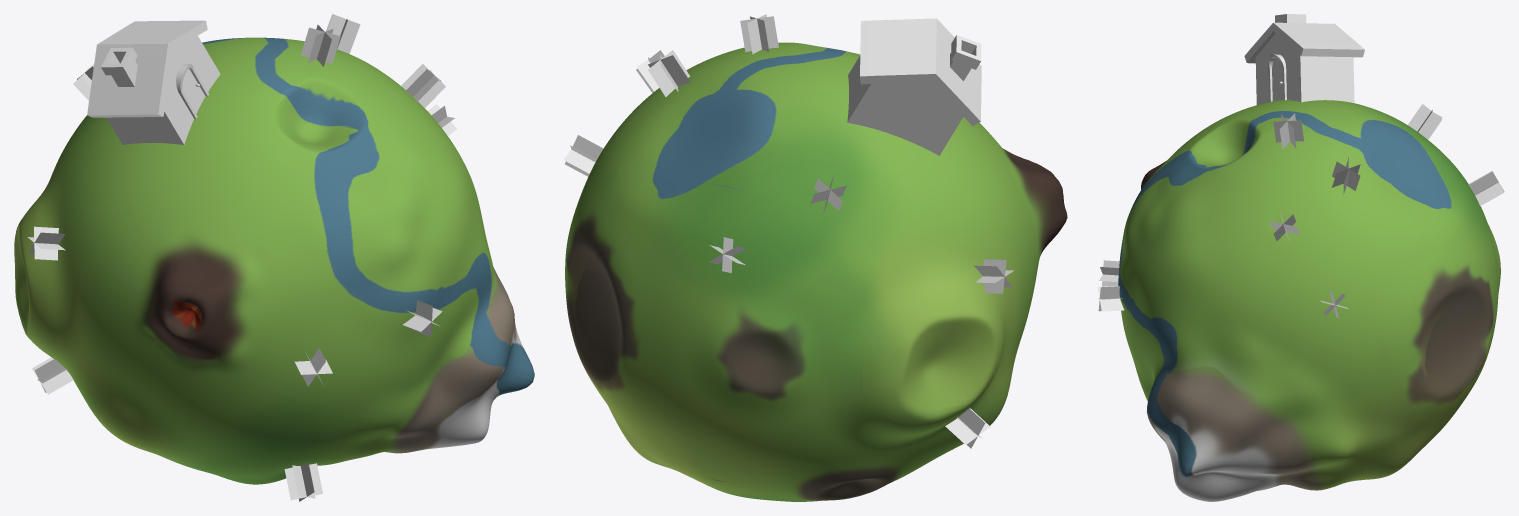
Rendered from planet.fbx.
3 renders of one model, left to right at view 1: azimuth 30°, elevation 25°; view 2: azimuth 150°, elevation 25°; view 3: azimuth 270°, elevation 25°, orthographic. The views are drawn at different scales.
Parts seen in each view (by area): view 1: Quad Sphere, House, Plane.008, Plane.002, Plane, Plane.007, Plane.006, Plane.001, Plane.010, Plane.009; view 2: Quad Sphere, House, Plane.002, Plane.001, Plane.003, Plane.007, Plane.006, Plane.005, Plane.004; view 3: Quad Sphere, House, Plane.002, Plane.004, Plane.005, Plane.001, Plane.010, Plane.009.
Part boxes in pixels (x1,y1,x2,y2): Quad Sphere: [14, 37, 534, 484]; House: [87, 20, 220, 144]; Plane.008: [284, 462, 322, 501]; Plane.002: [301, 24, 340, 66]; Plane: [401, 64, 445, 107]; Plane.007: [28, 226, 65, 260]; Plane.006: [32, 357, 73, 394]; Plane.001: [326, 14, 360, 53]; Plane.010: [402, 300, 442, 336]; Plane.009: [295, 347, 332, 386]; Quad Sphere: [565, 42, 1067, 501]; House: [847, 18, 981, 155]; Plane.002: [740, 14, 778, 53]; Plane.001: [648, 50, 690, 96]; Plane.003: [563, 135, 603, 176]; Plane.007: [974, 259, 1013, 293]; Plane.006: [945, 408, 990, 448]; Plane.005: [810, 175, 846, 213]; Plane.004: [708, 237, 746, 273]; Quad Sphere: [1118, 100, 1500, 501]; House: [1244, 14, 1364, 104]; Plane.002: [1273, 113, 1303, 149]; Plane.004: [1468, 170, 1504, 206]; Plane.005: [1408, 104, 1442, 139]; Plane.001: [1332, 157, 1360, 194]; Plane.010: [1097, 285, 1124, 311]; Plane.009: [1099, 260, 1119, 286].
Size of the model in its own units: 2189 by 2133 by 2277.
Materials: 2 (1 with a texture image).
